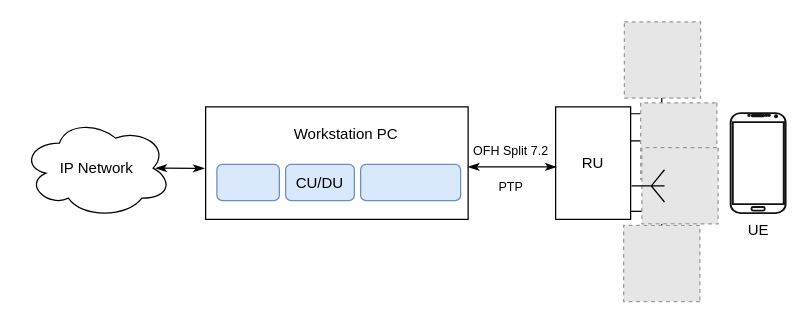
Image size: 809x324. Some labels were removed from this diagram. Grey dashed boxes stand in for pictures. Here are the shapes that lost their labels. From the top down, the centre of each, then its label:
(247,182): 5GC
(410,182): PTP GM
